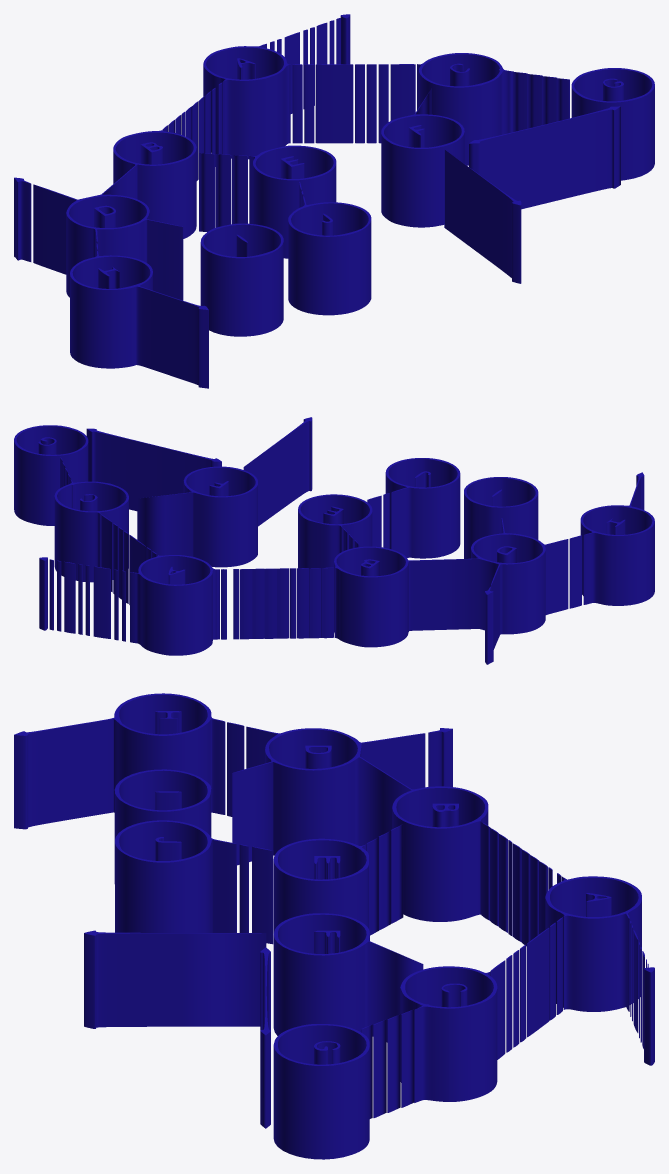
The model's file is tree.fbx.
The picture shows the model from 3 angles, top to bottom: view 1: azimuth 30°, elevation 25°; view 2: azimuth 150°, elevation 25°; view 3: azimuth 270°, elevation 25°; orthographic projection. The views are drawn at different scales.
Parts seen in each view (by area): view 1: path3777; view 2: path3777; view 3: path3777.
Boxes of the visible parts, x1=… form: path3777: x1=14, y1=14, x2=654, y2=388; path3777: x1=14, y1=417, x2=654, y2=664; path3777: x1=14, y1=693, x2=654, y2=1159.
Bounding box in the file's own units: 17.11 × 2 × 12.44.
